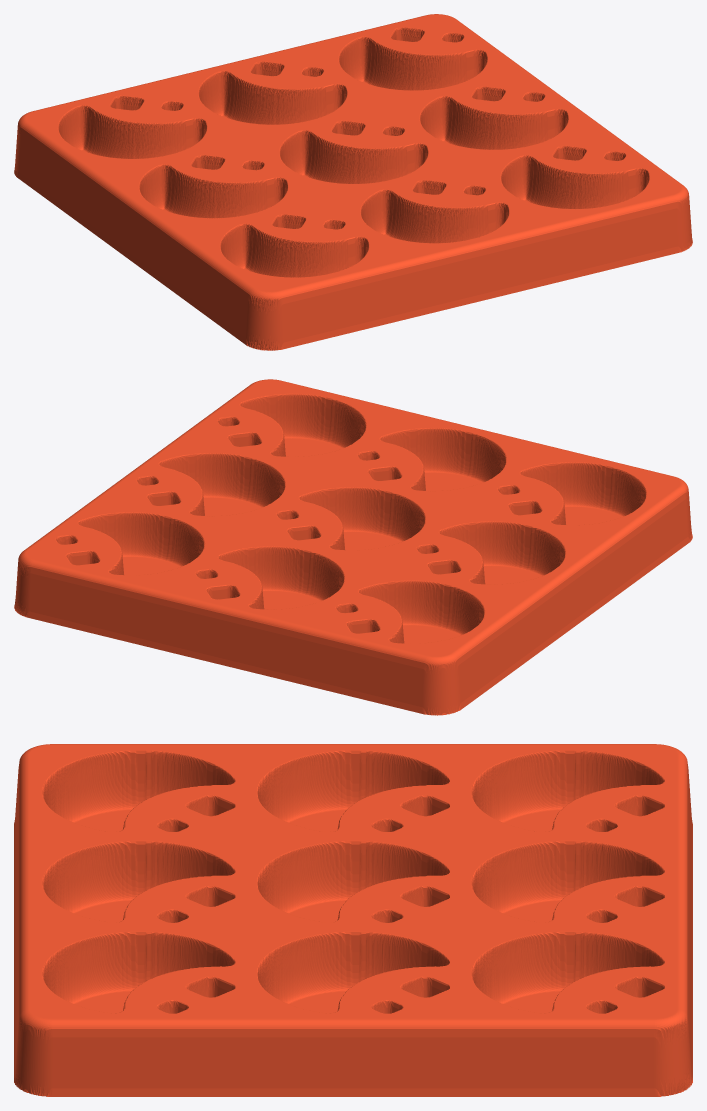
The model's file is mold.glb.
3 renders of one model, top to bottom at view 1: azimuth 30°, elevation 25°; view 2: azimuth 150°, elevation 25°; view 3: azimuth 270°, elevation 25°, orthographic. The views are drawn at different scales.
Parts seen in each view (by area): view 1: geometry_0; view 2: geometry_0; view 3: geometry_0.
Boxes of the visible parts, box(x1,y1,x2,y2) form: geometry_0: box(14, 14, 692, 350); geometry_0: box(14, 379, 692, 715); geometry_0: box(14, 744, 692, 1096).
Size of the model in its own units: 0.1595 by 0.0185 by 0.1595.
